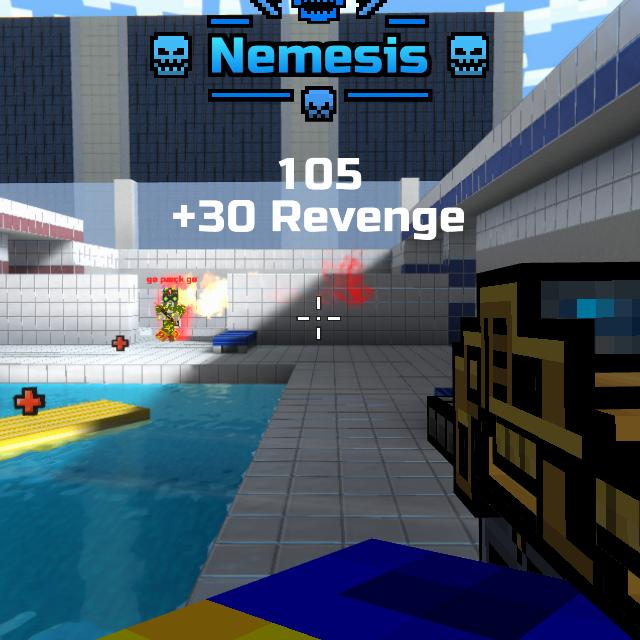Enemy: (156, 287, 187, 342)
